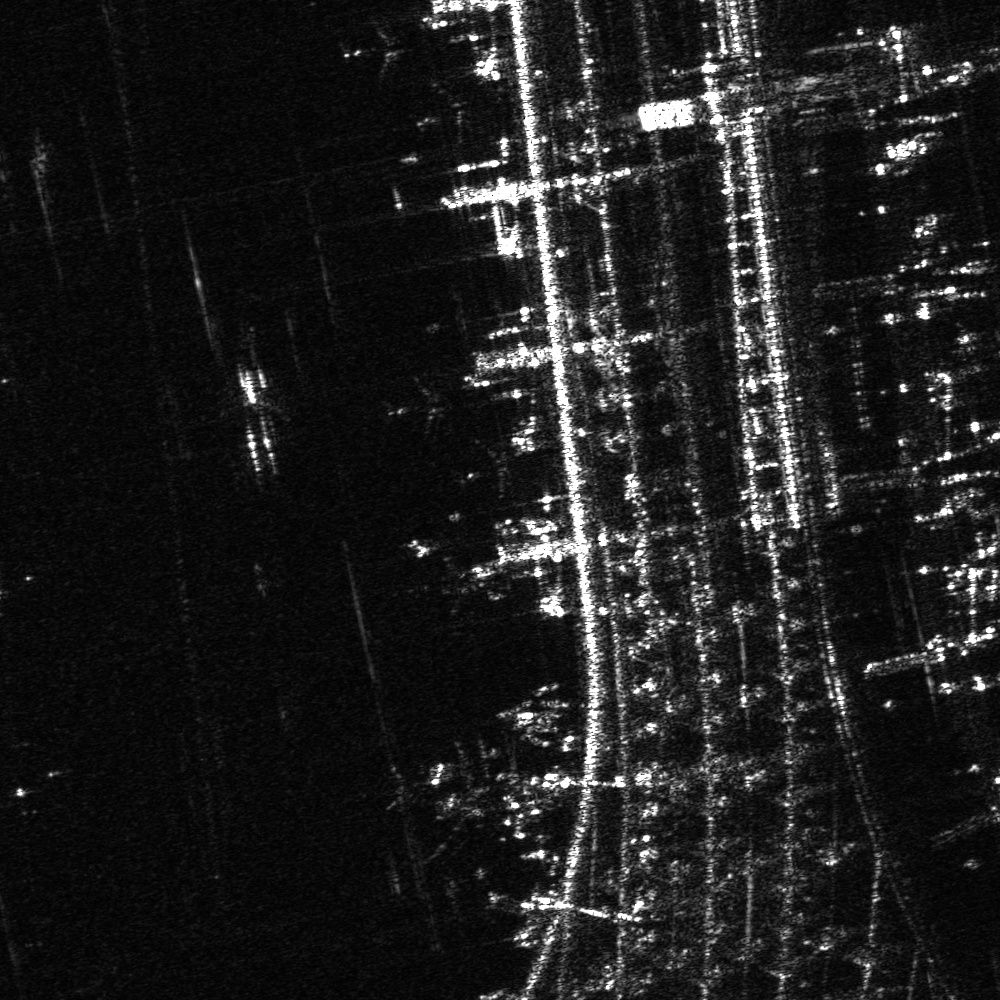Boeing787: (382, 732, 502, 864), (379, 370, 455, 443), (343, 18, 415, 86), (411, 79, 480, 146), (457, 435, 520, 499)
